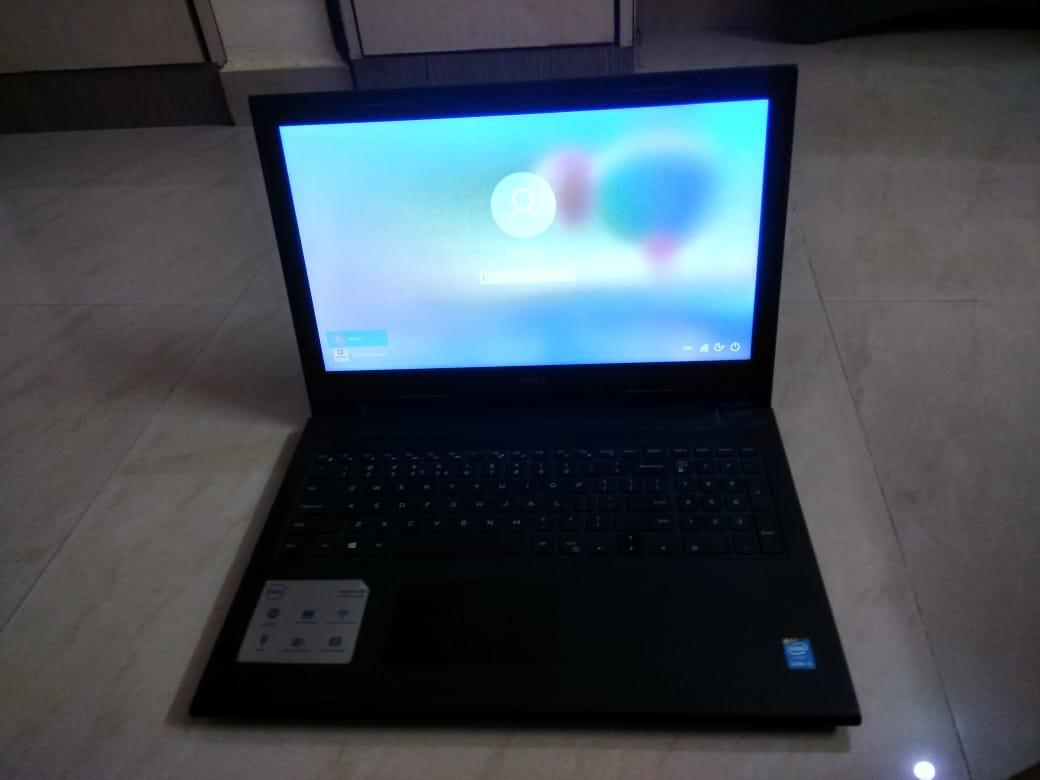laptop: (174, 51, 874, 746)
